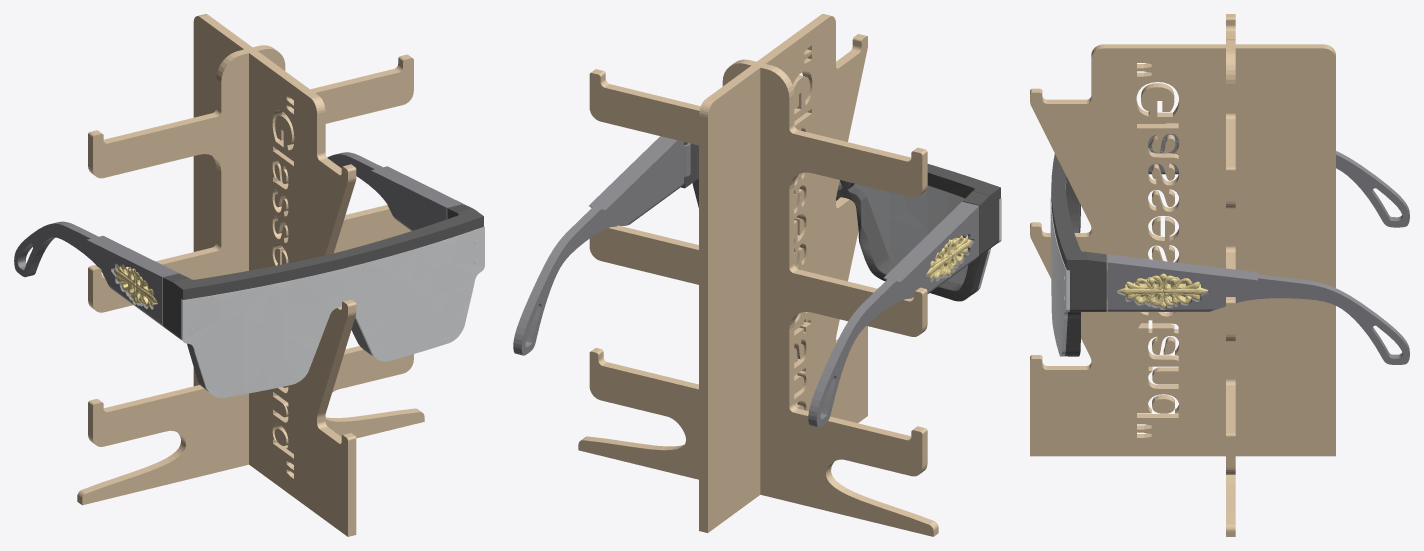
File: glasses-on-stand.glb
3 views of the same model, side by side, from view 1: azimuth 30°, elevation 25°; view 2: azimuth 150°, elevation 25°; view 3: azimuth 270°, elevation 25° (orthographic). The views are drawn at different scales.
Visible parts, largest first — view 1: finalbranchflat3, finalnoseflat2, Lens1, 0114, 01113, 0117, 01112; view 2: finalbranchflat3, finalnoseflat2, 0117, 01113, 0114, Lens1, 01112; view 3: finalnoseflat2, 0117, 0114, finalbranchflat3, 01113, 0116, Lens1.
Boxes of the visible parts, <box> form: finalbranchflat3: <box>77,45,424,505</box>; finalnoseflat2: <box>193,14,356,536</box>; Lens1: <box>181,226,484,397</box>; 0114: <box>163,204,483,391</box>; 01113: <box>14,221,178,326</box>; 0117: <box>327,152,462,230</box>; 01112: <box>113,264,157,307</box>; finalbranchflat3: <box>578,59,938,536</box>; finalnoseflat2: <box>699,14,867,532</box>; 0117: <box>513,136,690,355</box>; 01113: <box>808,201,979,427</box>; 0114: <box>681,142,1000,301</box>; Lens1: <box>796,180,1001,293</box>; 01112: <box>926,235,971,279</box>; finalnoseflat2: <box>1030,44,1335,456</box>; 0117: <box>1106,254,1409,364</box>; 0114: <box>1051,154,1106,356</box>; finalbranchflat3: <box>1226,14,1235,536</box>; 01113: <box>1137,123,1409,227</box>; 0116: <box>1118,273,1208,308</box>; Lens1: <box>1050,180,1069,356</box>.
Bounding box in the file's own units: 0.16 × 0.1839 × 0.1552.
